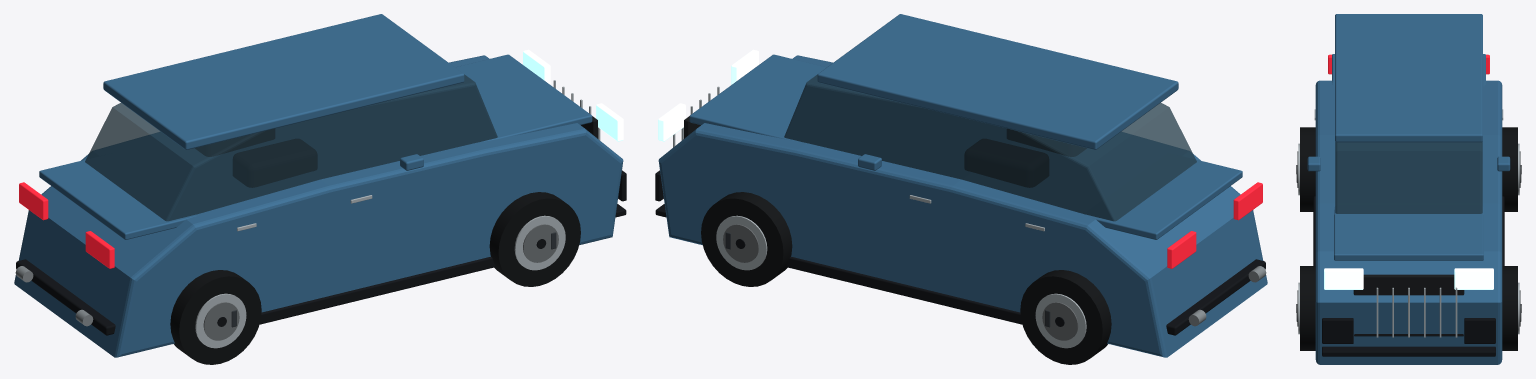
Rendered from chevy_uplander.glb.
3 views of the same model, side by side, from view 1: azimuth 30°, elevation 25°; view 2: azimuth 150°, elevation 25°; view 3: azimuth 270°, elevation 25° (orthographic). The views are drawn at different scales.
Parts seen in each view (by area): view 1: sculpted_body, glasshouse, roof, hood_center, rear_deck, rear_right_wheel_tire, front_right_wheel_tire, side_skirt_1, seat_1, rear_diffuser, rear_right_wheel_rim, front_right_wheel_rim (+7 smaller); view 2: sculpted_body, glasshouse, roof, hood_center, rear_deck, rear_left_wheel_tire, front_left_wheel_tire, side_skirt_-1, seat_-1, rear_diffuser, rear_left_wheel_rim, front_left_wheel_rim (+7 smaller); view 3: sculpted_body, roof, glasshouse, hood_center, front_grille, front_splitter, front_left_wheel_tire, front_right_wheel_tire, rear_left_wheel_tire, rear_right_wheel_tire, headlight_right, headlight_left (+7 smaller).
Part boxes in pixels (x1,y1,x2,y2): sculpted_body: (14,55,623,357); glasshouse: (85,74,497,221); roof: (103,14,464,149); hood_center: (415,54,592,142); rear_deck: (39,153,198,239); rear_right_wheel_tire: (170,270,261,364); front_right_wheel_tire: (489,192,580,286); side_skirt_1: (259,256,495,324); seat_1: (233,139,316,187); rear_diffuser: (16,259,115,335); rear_right_wheel_rim: (195,293,246,348); front_right_wheel_rim: (514,215,565,270); sculpted_body: (658,55,1267,357); glasshouse: (784,74,1196,221); roof: (817,14,1178,149); hood_center: (689,54,866,142); rear_deck: (1083,153,1242,239); rear_left_wheel_tire: (1020,270,1111,364); front_left_wheel_tire: (701,192,792,286); side_skirt_-1: (786,256,1022,324); seat_-1: (965,139,1048,187); rear_diffuser: (1166,259,1265,335); rear_left_wheel_rim: (1035,293,1086,348); front_left_wheel_rim: (716,215,767,270); sculpted_body: (1315,80,1502,364); roof: (1335,14,1482,142); glasshouse: (1335,142,1482,213); hood_center: (1334,206,1483,260); front_grille: (1353,274,1464,336); front_splitter: (1322,346,1495,356); front_left_wheel_tire: (1502,266,1517,350); front_right_wheel_tire: (1300,266,1315,350); rear_left_wheel_tire: (1502,127,1517,211); rear_right_wheel_tire: (1300,127,1315,211); headlight_right: (1324,268,1363,289); headlight_left: (1454,268,1493,289).
Size of the model in its own units: 5.56 by 2.1 by 2.28.
